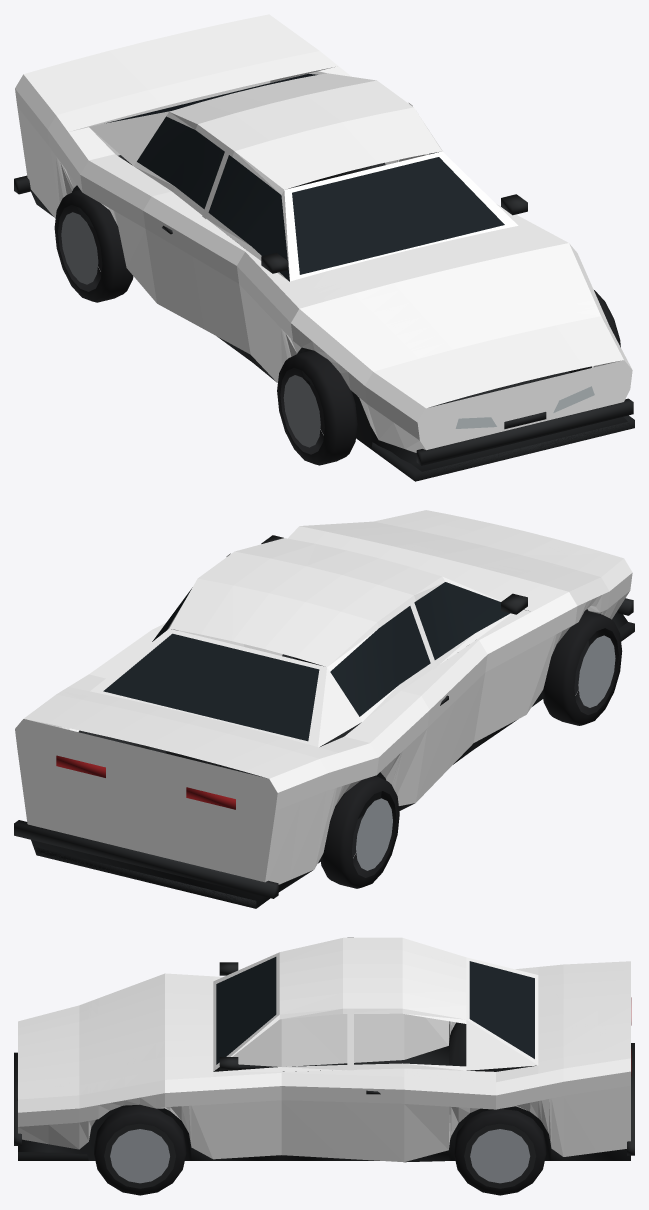
File: hayase_silex.glb
3 renders of one model, top to bottom at view 1: azimuth 30°, elevation 25°; view 2: azimuth 150°, elevation 25°; view 3: azimuth 270°, elevation 25°, orthographic. The views are drawn at different scales.
Parts seen in each view (by area): view 1: Body_Paint, Body_Details, Mount_FrontLeft_Wheel_Details, Mount_RearLeft_Wheel_Details; view 2: Body_Paint, Body_Details, Mount_FrontLeft_Wheel_Details, Mount_RearLeft_Wheel_Details; view 3: Body_Paint, Body_Details, Mount_FrontRight_Wheel_Details, Mount_RearRight_Wheel_Details.
Part boxes in pixels (<box>): Body_Paint: <box>15,14,632,452</box>; Body_Details: <box>14,73,634,481</box>; Mount_FrontLeft_Wheel_Details: <box>277,350,357,465</box>; Mount_RearLeft_Wheel_Details: <box>54,190,133,302</box>; Body_Paint: <box>15,510,632,884</box>; Body_Details: <box>14,535,634,908</box>; Mount_FrontLeft_Wheel_Details: <box>542,610,622,725</box>; Mount_RearLeft_Wheel_Details: <box>320,776,399,888</box>; Body_Paint: <box>18,937,630,1162</box>; Body_Details: <box>14,957,634,1162</box>; Mount_FrontRight_Wheel_Details: <box>94,1105,186,1195</box>; Mount_RearRight_Wheel_Details: <box>454,1108,546,1195</box>.
Size of the model in its own units: 1.93 by 1.29 by 4.3.
Materials: 2 (1 with a texture image).
